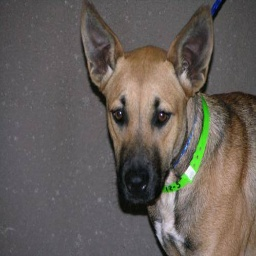dog: (76, 1, 256, 253)
